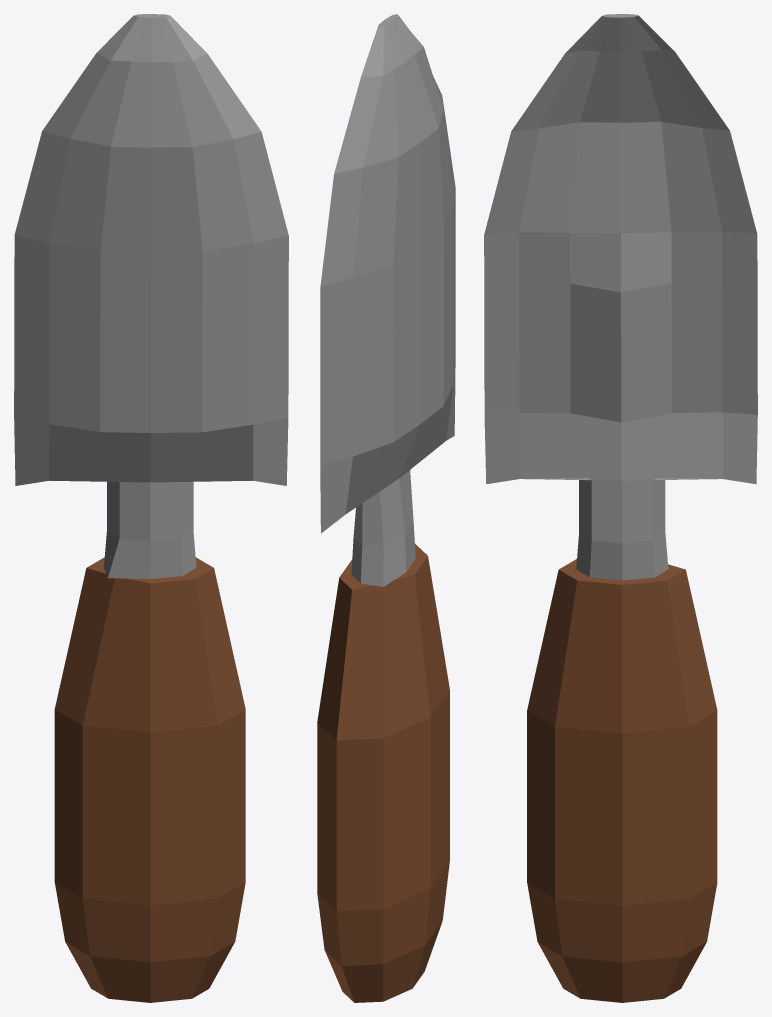
Rendered from trowel01.gltf.
The picture shows the model from 3 angles, left to right: view 1: azimuth 90°, elevation 25°; view 2: azimuth 150°, elevation 25°; view 3: azimuth 270°, elevation 25°; orthographic projection.
Parts seen in each view (by area): view 1: Cylinder; view 2: Cylinder; view 3: Cylinder.
Part boxes in pixels (x1=…): Cylinder: x1=14, y1=14, x2=288, y2=1002; Cylinder: x1=317, y1=14, x2=455, y2=1002; Cylinder: x1=484, y1=14, x2=757, y2=1002.
Bounding box in the file's own units: 0.0261 × 0.2567 × 0.0656.
1 material, 1 textured.
